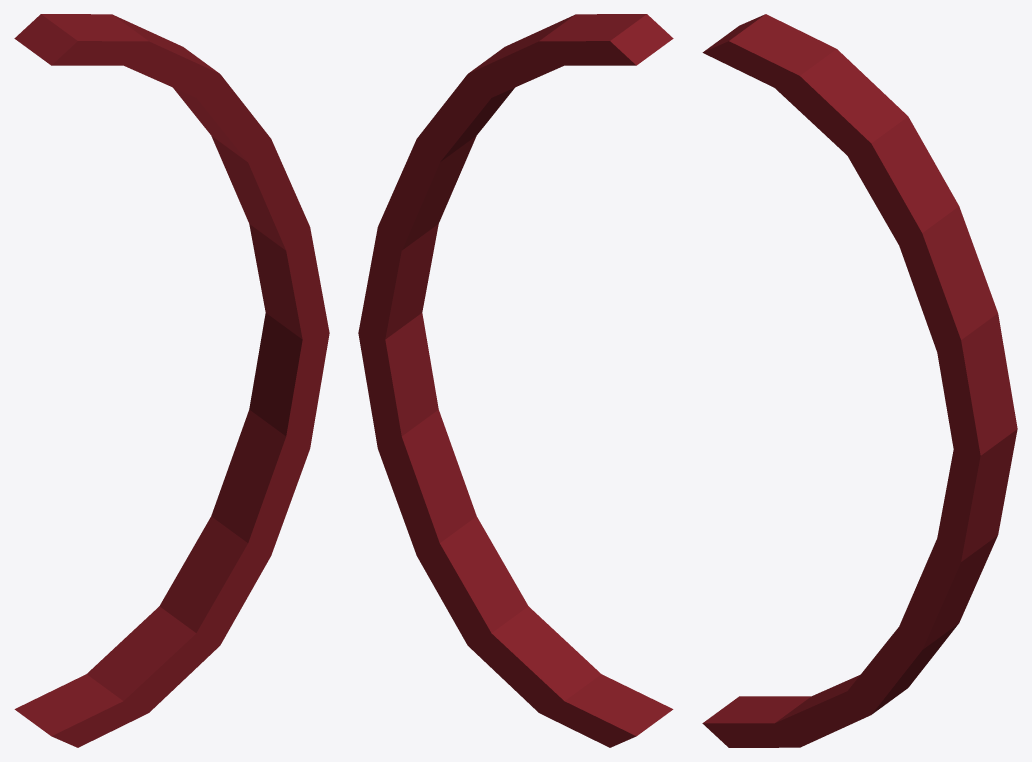
Rendered from RedArc.fbx.
3 renders of one model, left to right at view 1: azimuth 30°, elevation 25°; view 2: azimuth 150°, elevation 25°; view 3: azimuth 330°, elevation 25°, orthographic.
Parts seen in each view (by area): view 1: Plane.001; view 2: Plane.001; view 3: Plane.001.
Part boxes in pixels (box(x1,y1,x2,y2)): Plane.001: box(14, 14, 329, 747); Plane.001: box(358, 14, 673, 747); Plane.001: box(702, 14, 1017, 747).
Size of the model in its own units: 43.42 by 105 by 10.
